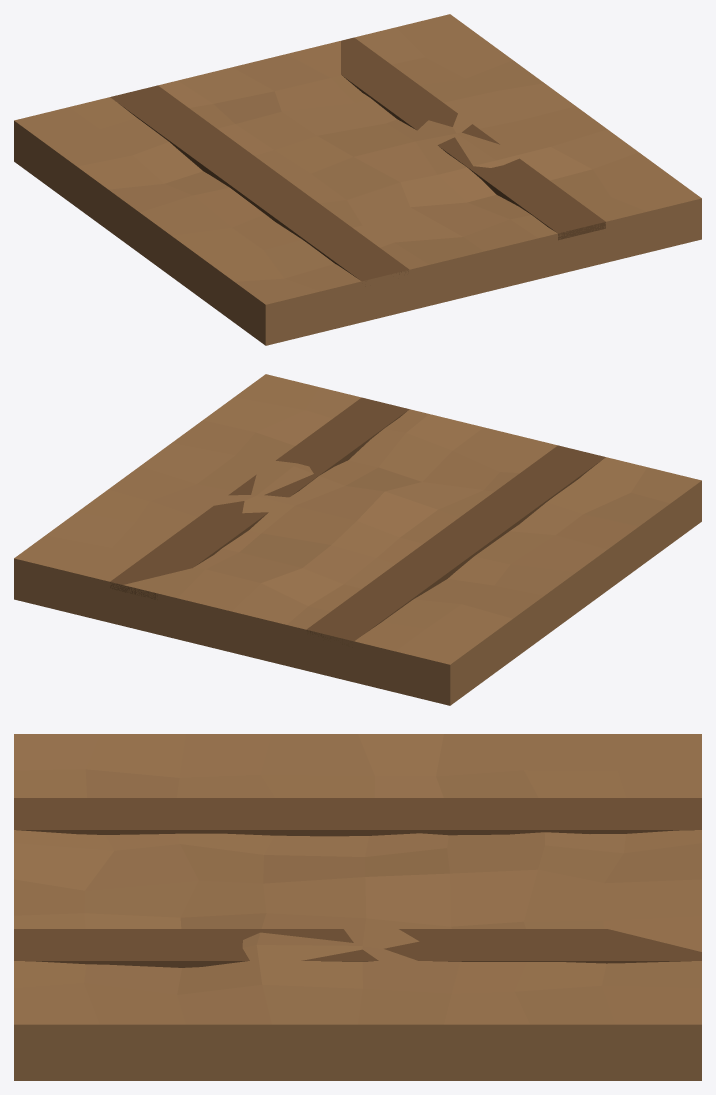
Rendered from SM_Ground_Road.obj.
The picture shows the model from 3 angles, top to bottom: view 1: azimuth 30°, elevation 25°; view 2: azimuth 150°, elevation 25°; view 3: azimuth 270°, elevation 25°; orthographic projection. The views are drawn at different scales.
Parts seen in each view (by area): view 1: SM_Ground_Road; view 2: SM_Ground_Road; view 3: SM_Ground_Road.
Part boxes in pixels (left/top/right/bottom): SM_Ground_Road: left=14, top=14, right=701, bottom=345; SM_Ground_Road: left=14, top=374, right=701, bottom=705; SM_Ground_Road: left=14, top=734, right=701, bottom=1080.
Bounding box in the file's own units: 2 × 0.189 × 2.
